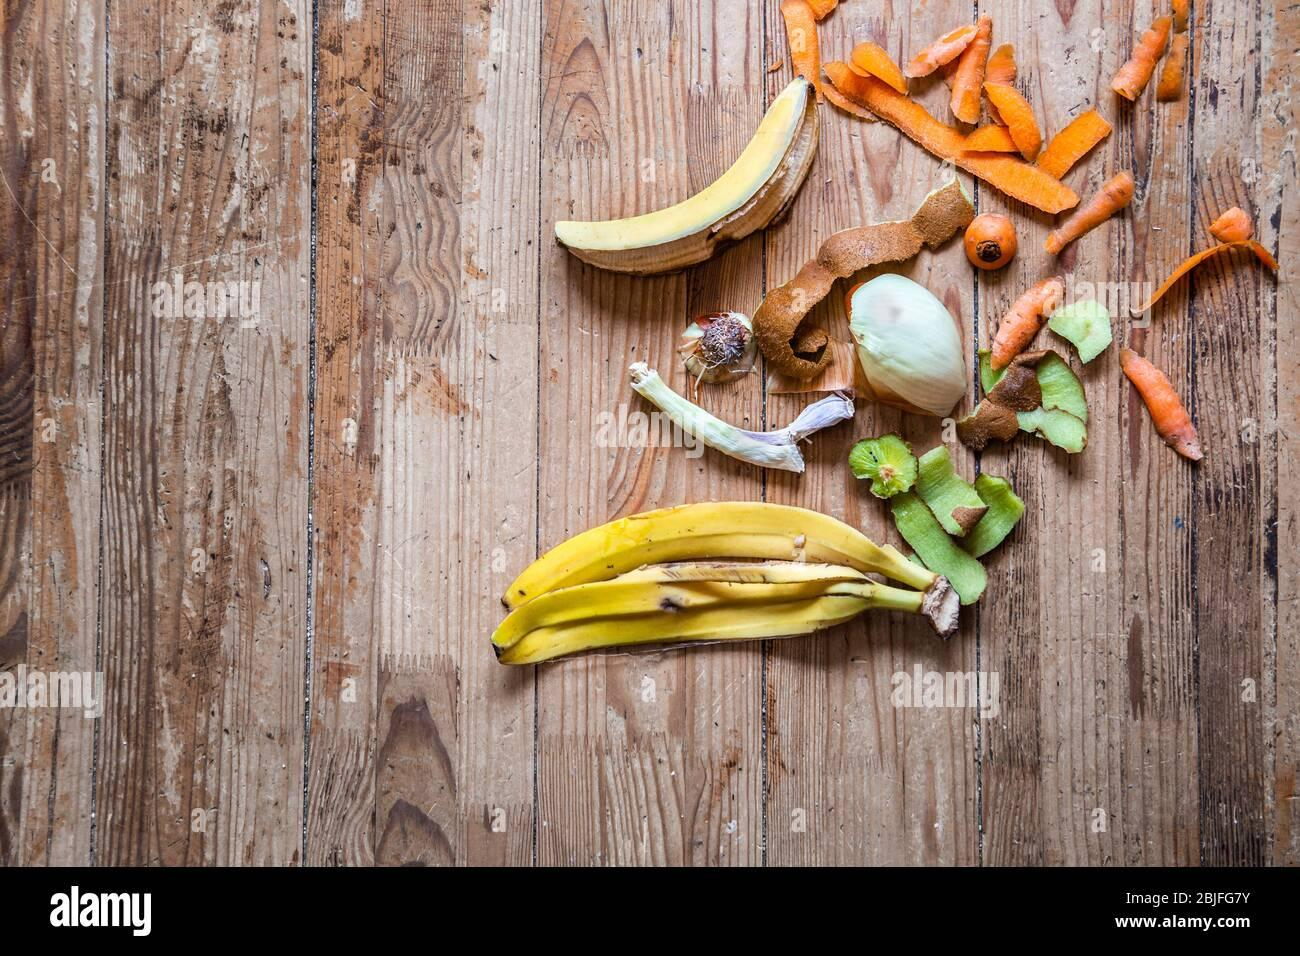organic: (492, 503, 935, 665), (555, 78, 818, 274), (629, 363, 814, 472), (709, 79, 818, 243), (849, 274, 965, 417), (816, 183, 975, 276), (890, 491, 985, 604), (555, 209, 713, 274), (1119, 349, 1201, 462), (979, 277, 1063, 387), (957, 154, 1078, 215), (1045, 172, 1133, 253), (1017, 353, 1086, 452), (983, 44, 1042, 160), (915, 446, 984, 536), (1036, 110, 1111, 179), (1111, 16, 1171, 99), (964, 474, 1023, 557), (681, 312, 752, 379), (950, 17, 992, 125), (850, 435, 917, 499), (1049, 301, 1112, 363), (906, 25, 976, 78), (956, 398, 1017, 450), (781, 0, 820, 83), (788, 392, 855, 439), (963, 214, 1015, 270), (850, 43, 906, 93)
